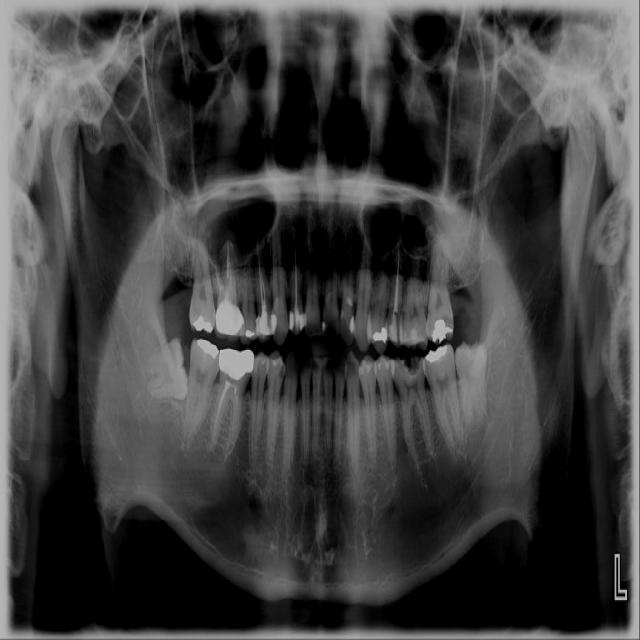Caries: (401, 357, 421, 376)
Crown: (214, 297, 245, 341), (220, 349, 254, 379)
Filling: (257, 302, 276, 344), (385, 310, 404, 347), (340, 297, 354, 345), (401, 324, 429, 348), (428, 320, 455, 342), (289, 297, 304, 334), (195, 340, 220, 358), (191, 315, 214, 332), (369, 326, 388, 346), (425, 346, 448, 362), (269, 355, 285, 374), (374, 357, 393, 373), (358, 358, 375, 375), (254, 355, 268, 373), (244, 325, 256, 340)
Periapical lesion: (465, 423, 486, 436), (429, 442, 439, 462)
Root Canal Treatment: (214, 382, 229, 435), (257, 250, 266, 302), (393, 250, 399, 308), (294, 253, 298, 312)
impacted tooth: (141, 337, 188, 403), (452, 344, 489, 426)
